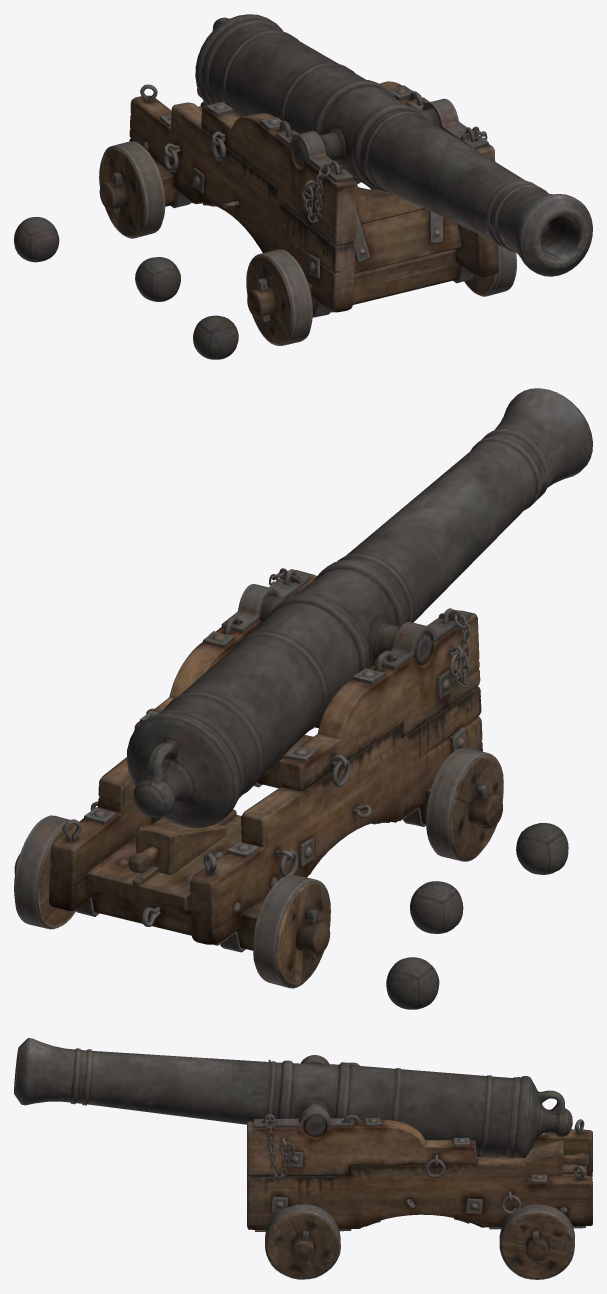
The picture shows the model from 3 angles, top to bottom: view 1: azimuth 30°, elevation 25°; view 2: azimuth 150°, elevation 25°; view 3: azimuth 270°, elevation 25°; orthographic projection. The views are drawn at different scales.
Parts seen in each view (by area): view 1: cannon_01_frame, cannon_01_barrel, cannon_01_wheel_02, cannon_01_wheel_01, cannon_01_ball_02, cannon_01_ball_03, cannon_01_ball_01, cannon_01_wheel_03; view 2: cannon_01_frame, cannon_01_barrel, cannon_01_wheel_01, cannon_01_wheel_02, cannon_01_wheel_04, cannon_01_pusherblock, cannon_01_ball_02, cannon_01_ball_03, cannon_01_ball_01; view 3: cannon_01_barrel, cannon_01_frame, cannon_01_wheel_04, cannon_01_wheel_03, cannon_01_pusherblock.
Boxes of the visible parts, <box> form: cannon_01_frame: <box>99,81,499,322</box>; cannon_01_barrel: <box>195,14,592,276</box>; cannon_01_wheel_02: <box>99,141,165,238</box>; cannon_01_wheel_01: <box>246,249,312,345</box>; cannon_01_ball_02: <box>135,257,180,301</box>; cannon_01_ball_03: <box>14,217,59,262</box>; cannon_01_ball_01: <box>193,315,238,359</box>; cannon_01_wheel_03: <box>464,245,516,296</box>; cannon_01_frame: <box>14,568,502,958</box>; cannon_01_barrel: <box>126,388,592,828</box>; cannon_01_wheel_01: <box>426,748,503,861</box>; cannon_01_wheel_02: <box>253,874,330,988</box>; cannon_01_wheel_04: <box>14,815,75,929</box>; cannon_01_pusherblock: <box>128,821,227,874</box>; cannon_01_ball_02: <box>410,881,463,933</box>; cannon_01_ball_03: <box>386,957,439,1009</box>; cannon_01_ball_01: <box>516,823,568,874</box>; cannon_01_barrel: <box>14,1038,572,1158</box>; cannon_01_frame: <box>247,1055,592,1264</box>; cannon_01_wheel_04: <box>499,1204,574,1279</box>; cannon_01_wheel_03: <box>265,1204,340,1279</box>; cannon_01_pusherblock: <box>500,1140,588,1176</box>.
Bounding box in the file's own units: 1.28 × 0.8588 × 2.3.
1 material, 1 textured.
